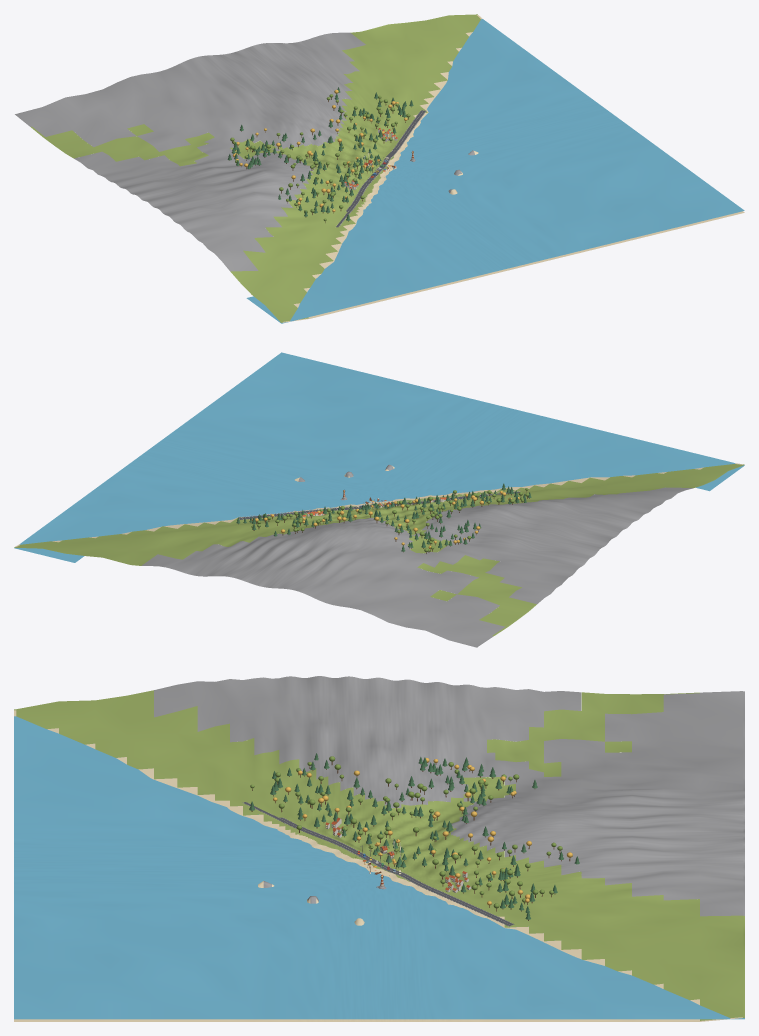
The model's file is drive.glb.
The picture shows the model from 3 angles, top to bottom: view 1: azimuth 30°, elevation 25°; view 2: azimuth 150°, elevation 25°; view 3: azimuth 270°, elevation 25°; orthographic projection. The views are drawn at different scales.
Parts seen in each view (by area): view 1: far_ground, liquid_sea_far, far_trees_pine_distant, far_trees_leaf_green_distant, far_trees_leaf_orange_distant; view 2: liquid_sea_far, far_ground, far_trees_pine_distant, far_trees_leaf_green_distant, far_trees_leaf_orange_distant; view 3: far_ground, liquid_sea_far, far_trees_pine_distant, far_trees_leaf_green_distant, static, far_trees_leaf_orange_distant, far_trees_trunk_distant.
Part boxes in pixels (x1,y1,x2,y2): far_ground: [15, 14, 744, 322]; liquid_sea_far: [246, 19, 744, 323]; far_trees_pine_distant: [227, 87, 413, 220]; far_trees_leaf_green_distant: [230, 94, 410, 221]; far_trees_leaf_orange_distant: [232, 89, 407, 212]; liquid_sea_far: [14, 352, 744, 562]; far_ground: [14, 463, 744, 647]; far_trees_pine_distant: [236, 483, 531, 551]; far_trees_leaf_green_distant: [251, 488, 529, 552]; far_trees_leaf_orange_distant: [251, 491, 519, 549]; far_ground: [14, 676, 744, 1021]; liquid_sea_far: [14, 716, 744, 1019]; far_trees_pine_distant: [249, 753, 579, 919]; far_trees_leaf_green_distant: [250, 756, 562, 908]; static: [352, 841, 405, 875]; far_trees_leaf_orange_distant: [273, 758, 572, 905]; far_trees_trunk_distant: [251, 761, 570, 920].
Size of the model in its own units: 220 by 16.13 by 220.
